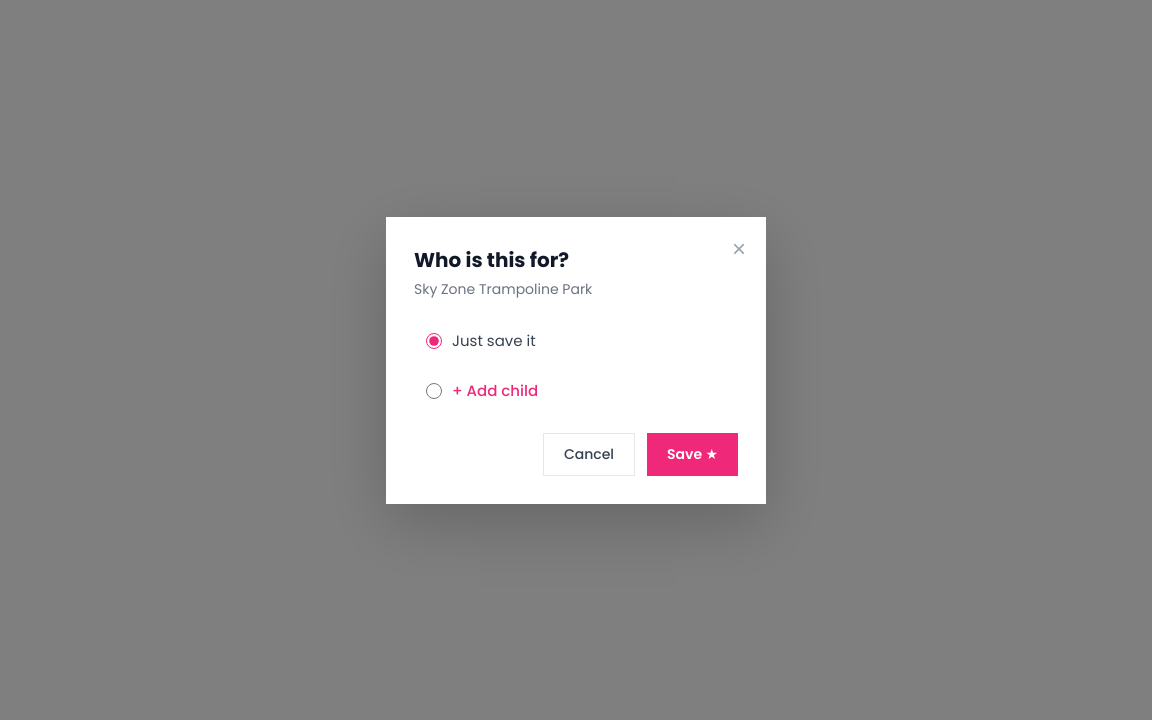
Test: SaveModal › shows error message if age is invalid when adding child
Click the radio button labelled "+ Add child": point(434, 391) [426,383,442,399]
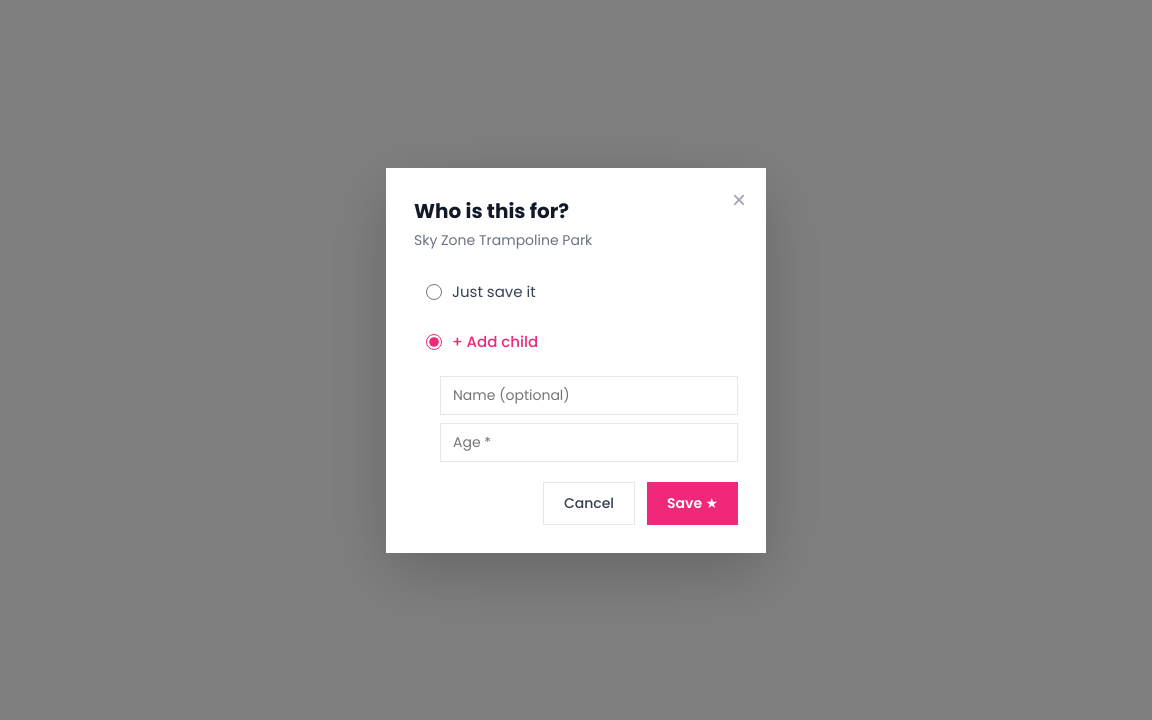
In the number field with placeholder "Age *": point(589, 442) [440,422,738,462], type "25"
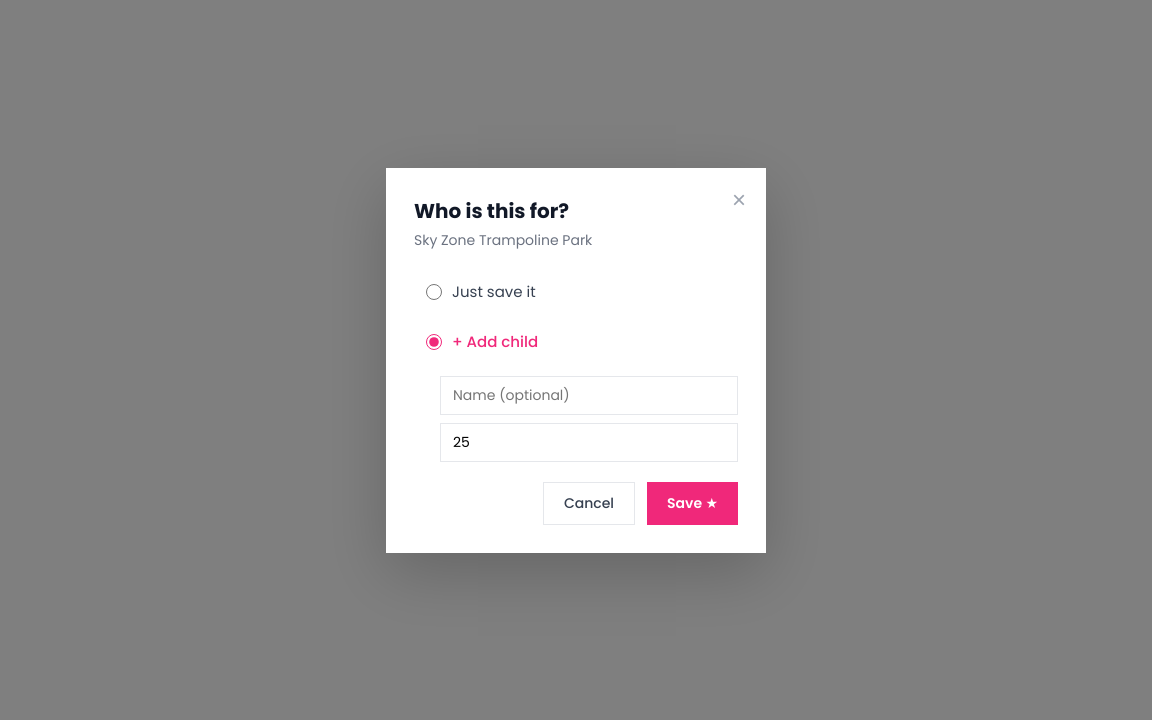
Click the button "Save ★": point(693, 503) [647,482,738,524]
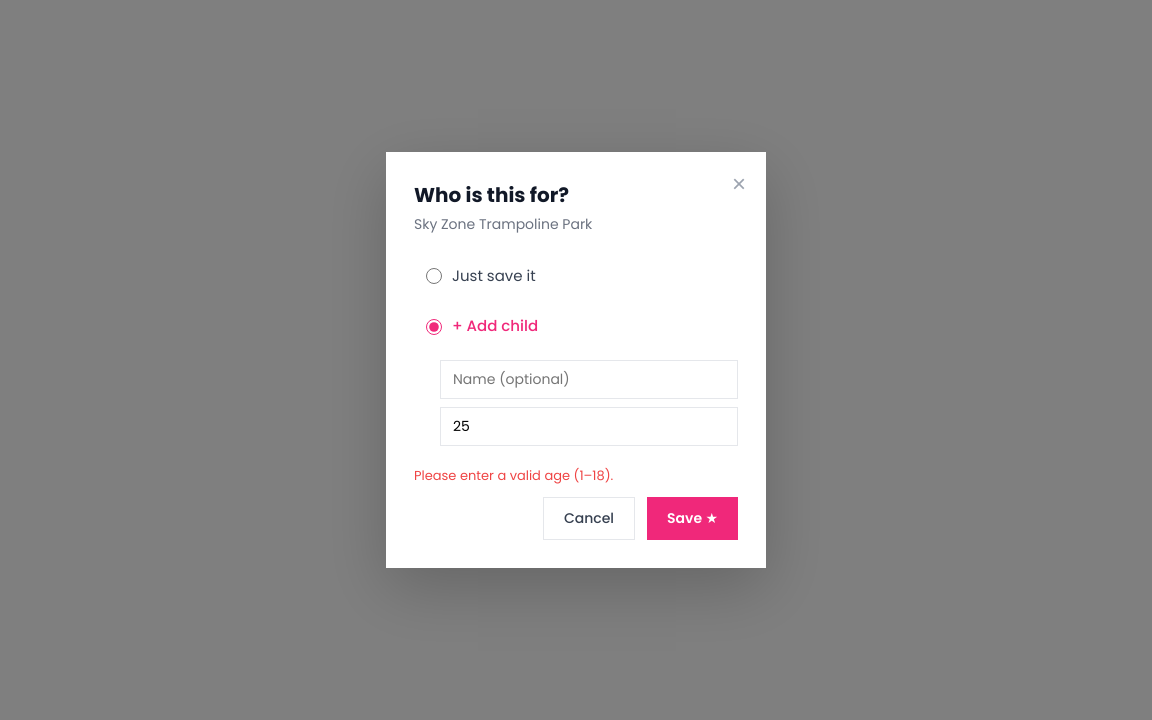
Expected: the text "Please enter a valid age (1–18)." is shown, [414,466,613,485]
